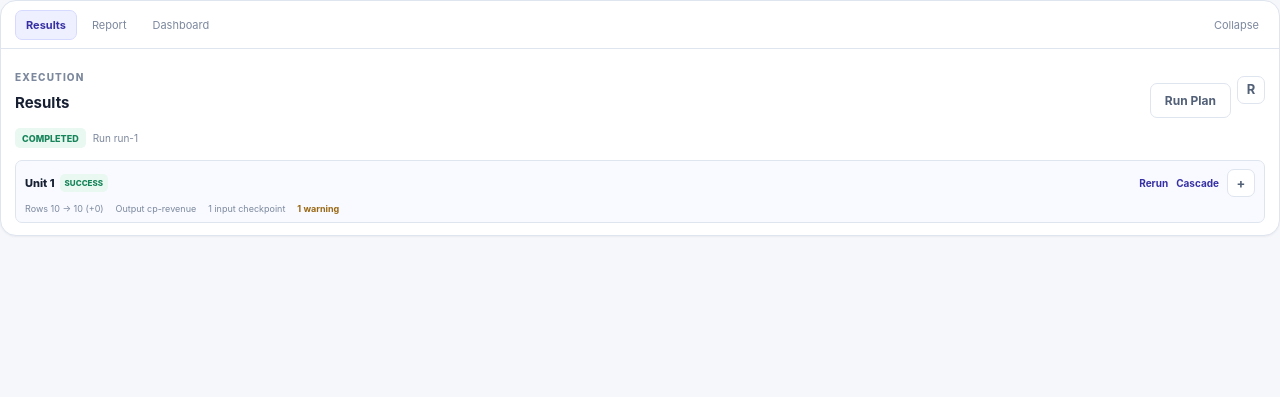
Scenario: Output Dock › shows structured warnings and links a result to its canvas unit
The width and height of the screenshot is (1280, 397).
Click the button "Unit 1 success" at (66,183), box [25,174,108,192]
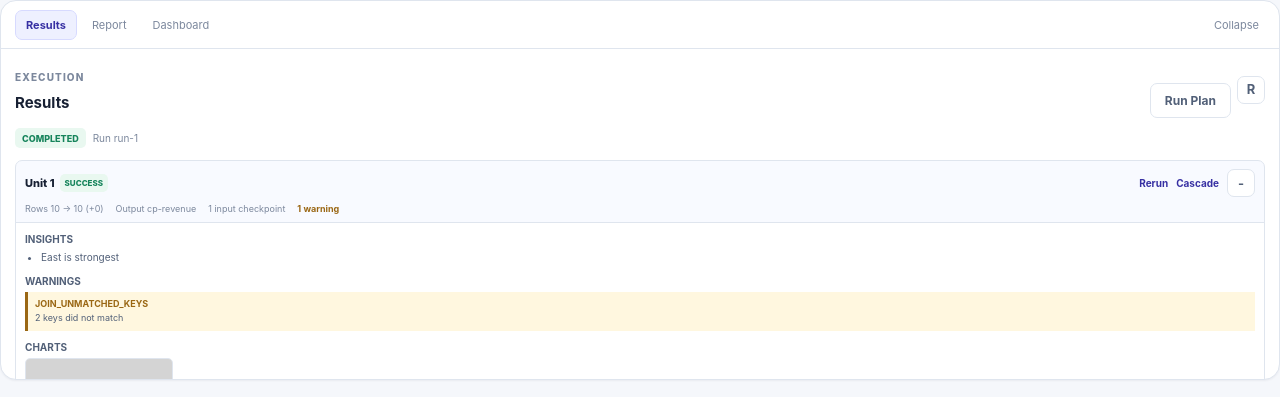
Check: the text "JOIN_UNMATCHED_KEYS" is shown, box [35,298,148,308]
